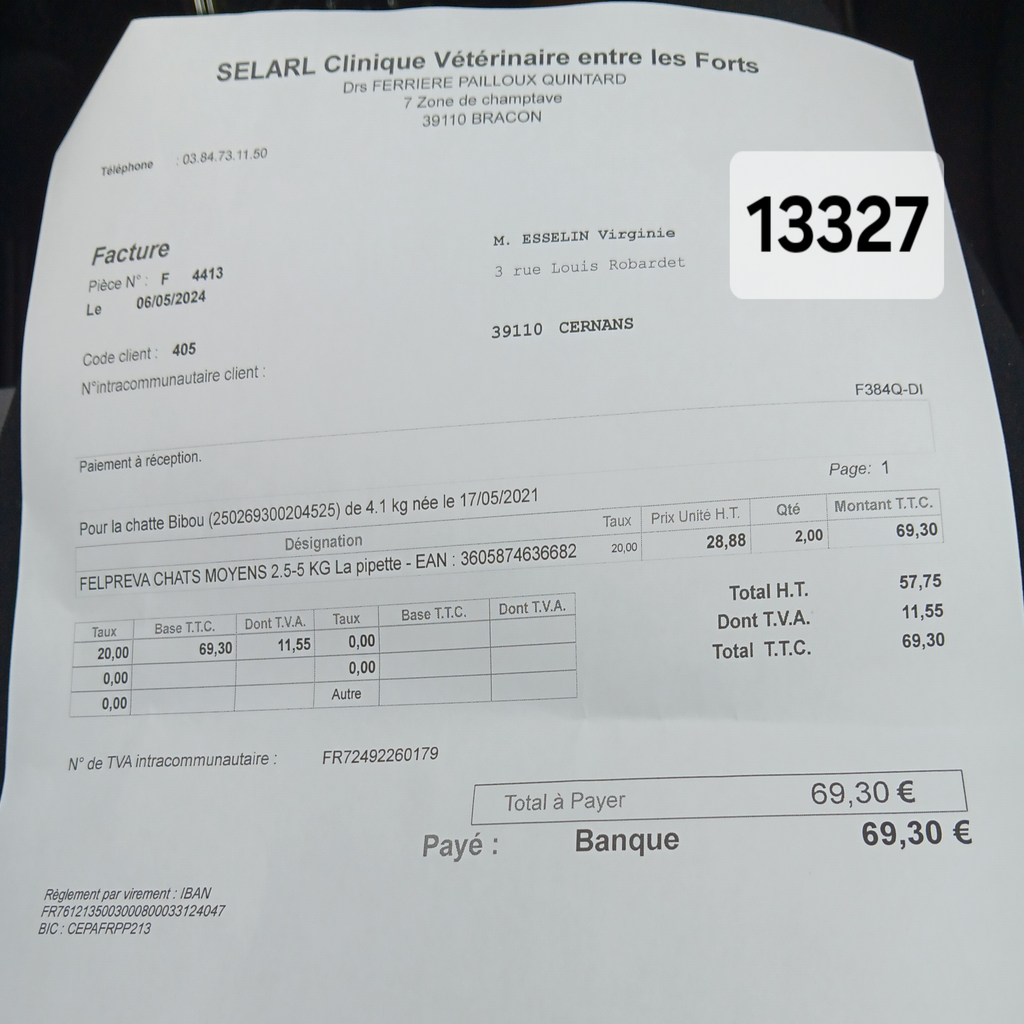recipt: (2, 2, 1022, 1016)
